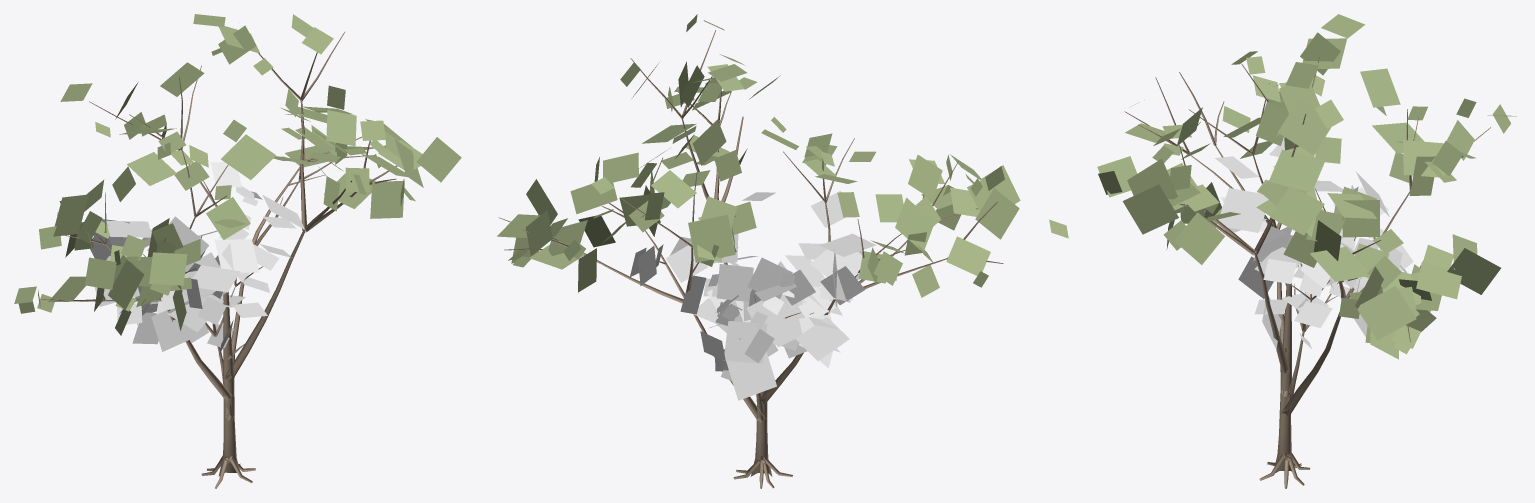
Rendered from tree-d-far.glb.
The picture shows the model from 3 angles, left to right: view 1: azimuth 30°, elevation 25°; view 2: azimuth 150°, elevation 25°; view 3: azimuth 270°, elevation 25°; orthographic projection. The views are drawn at different scales.
Visible parts, largest first — view 1: leafB, leafBDeep, wood; view 2: leafB, leafBDeep, wood; view 3: leafB, leafBDeep, wood.
Part boxes in pixels (x1,y1,x2,y2): leafB: (14, 14, 461, 335); leafBDeep: (90, 162, 305, 355); wood: (40, 32, 397, 488); leafB: (497, 14, 1068, 297); leafBDeep: (630, 191, 896, 400); wood: (498, 30, 1003, 488); leafB: (1097, 14, 1516, 359); leafBDeep: (1215, 138, 1422, 348); wood: (1124, 57, 1490, 488).
Size of the model in its own units: 10.44 by 8.93 by 7.44.
